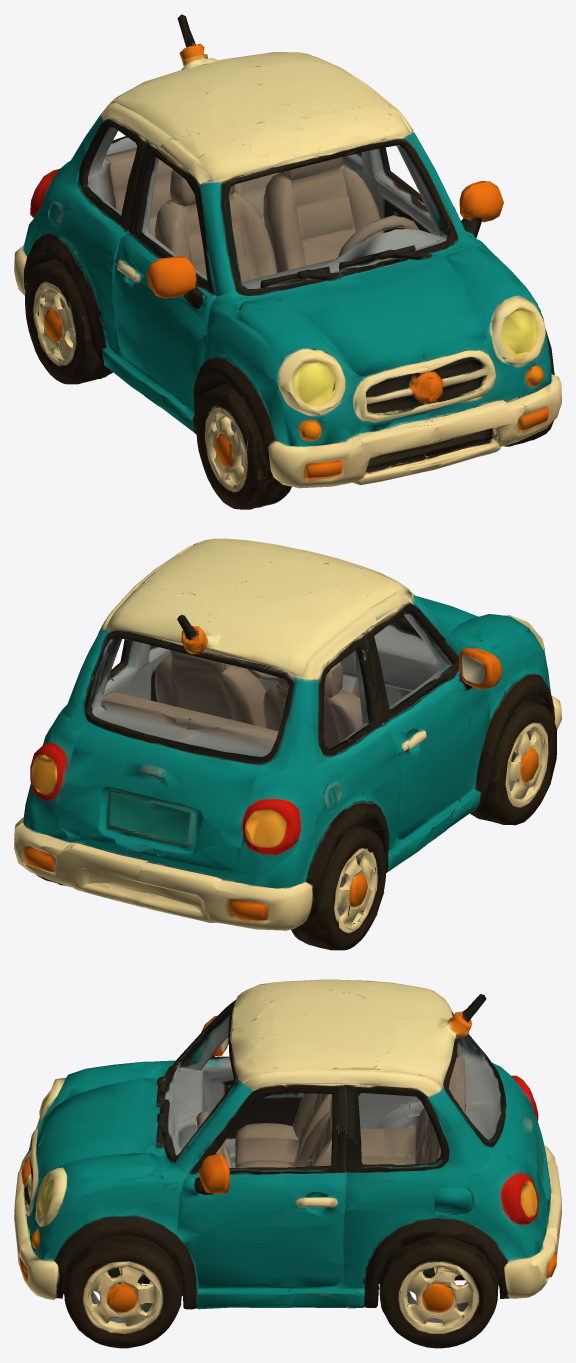
Rendered from GameStylizedCar.fbx.
3 views of the same model, one above another, from view 1: azimuth 30°, elevation 25°; view 2: azimuth 150°, elevation 25°; view 3: azimuth 270°, elevation 25° (orthographic). The views are drawn at different scales.
Visible parts, largest first — view 1: GameStylizedCar; view 2: GameStylizedCar; view 3: GameStylizedCar.
Part boxes in pixels (box(x1,y1,x2,y2)): GameStylizedCar: box(14, 14, 561, 509); GameStylizedCar: box(14, 538, 561, 950); GameStylizedCar: box(14, 979, 561, 1348).
Size of the model in its own units: 244 by 210 by 361.
